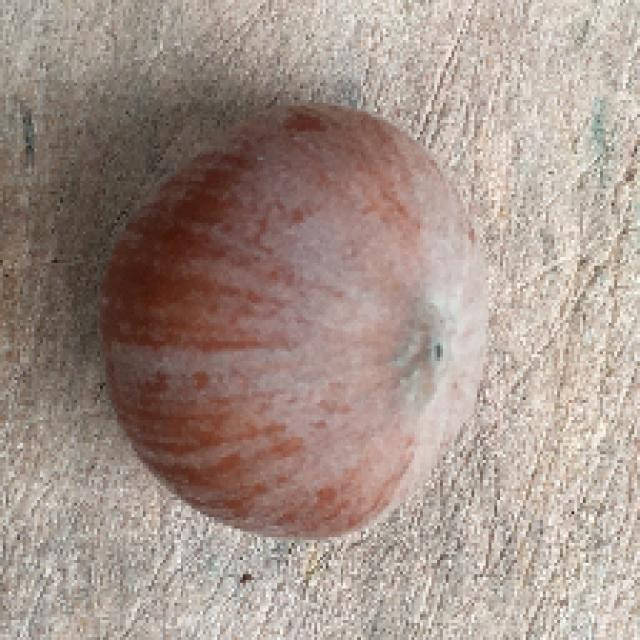qualityHazelnut: (101, 97, 500, 543)
